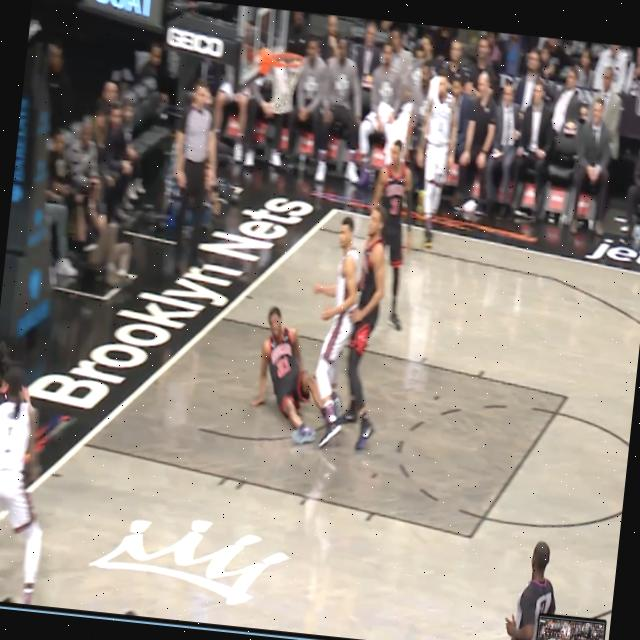foul: (218, 184, 429, 495)
